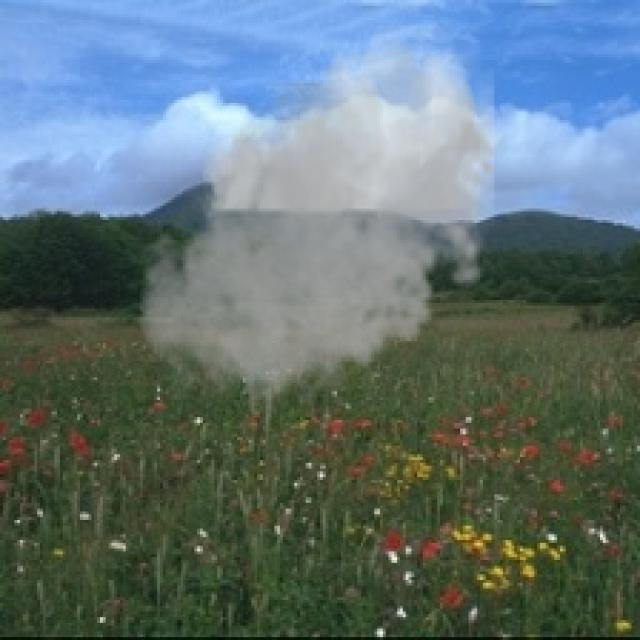Smoke: (132, 26, 508, 417)
